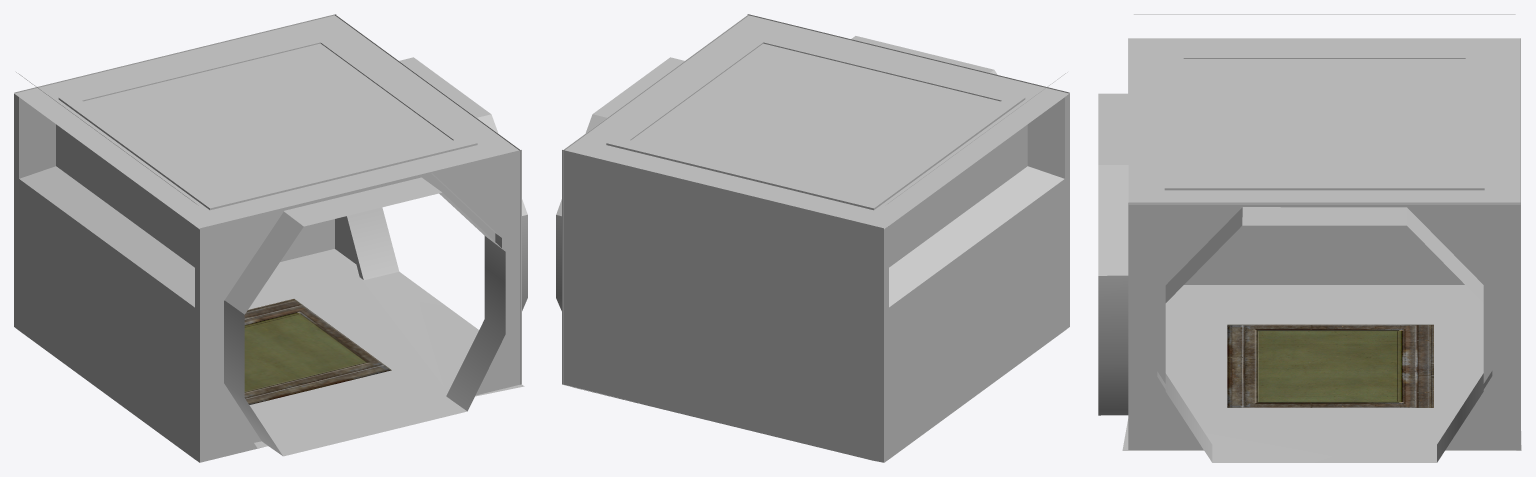
Rendered from 2G_R_Corridor.fbx.
3 renders of one model, left to right at view 1: azimuth 30°, elevation 25°; view 2: azimuth 150°, elevation 25°; view 3: azimuth 270°, elevation 25°, orthographic. The views are drawn at different scales.
Visible parts, largest first — view 1: 2GR; view 2: 2GR; view 3: 2GR.
Part boxes in pixels (<box>): 2GR: <box>14,14,527,462</box>; 2GR: <box>556,14,1069,462</box>; 2GR: <box>1098,14,1521,462</box>.
Bounding box in the file's own units: 485 × 345 × 487.
